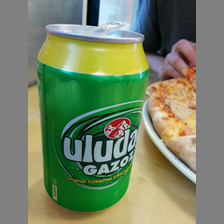soda: (35, 23, 150, 213)
